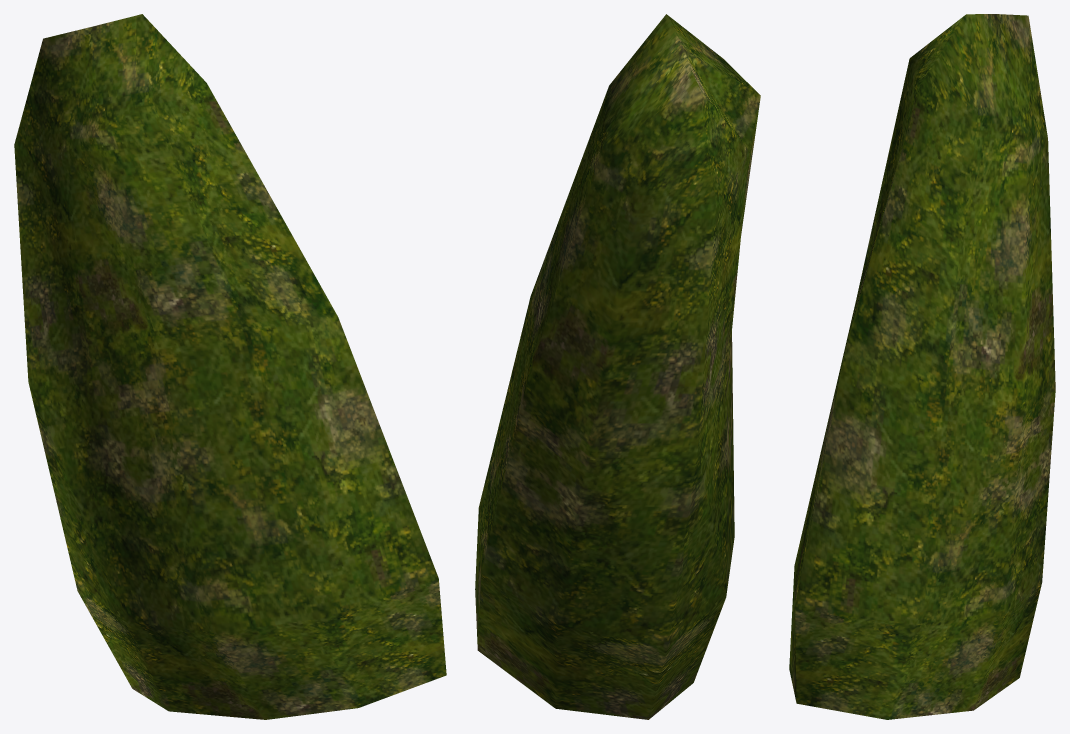
The model's file is OVERHILL_A_01_BR_ROCK200.fbx.
The picture shows the model from 3 angles, left to right: view 1: azimuth 30°, elevation 25°; view 2: azimuth 150°, elevation 25°; view 3: azimuth 270°, elevation 25°; orthographic projection. The views are drawn at different scales.
Parts seen in each view (by area): view 1: OVERHILL_A_01_BR_ROCK200; view 2: OVERHILL_A_01_BR_ROCK200; view 3: OVERHILL_A_01_BR_ROCK200.
Boxes of the visible parts, x1,y1,x2,y2 form: OVERHILL_A_01_BR_ROCK200: [14, 14, 446, 719]; OVERHILL_A_01_BR_ROCK200: [475, 14, 760, 719]; OVERHILL_A_01_BR_ROCK200: [789, 14, 1055, 719].
Size of the model in its own units: 17630 by 36182 by 13845.
1 material, 1 textured.
